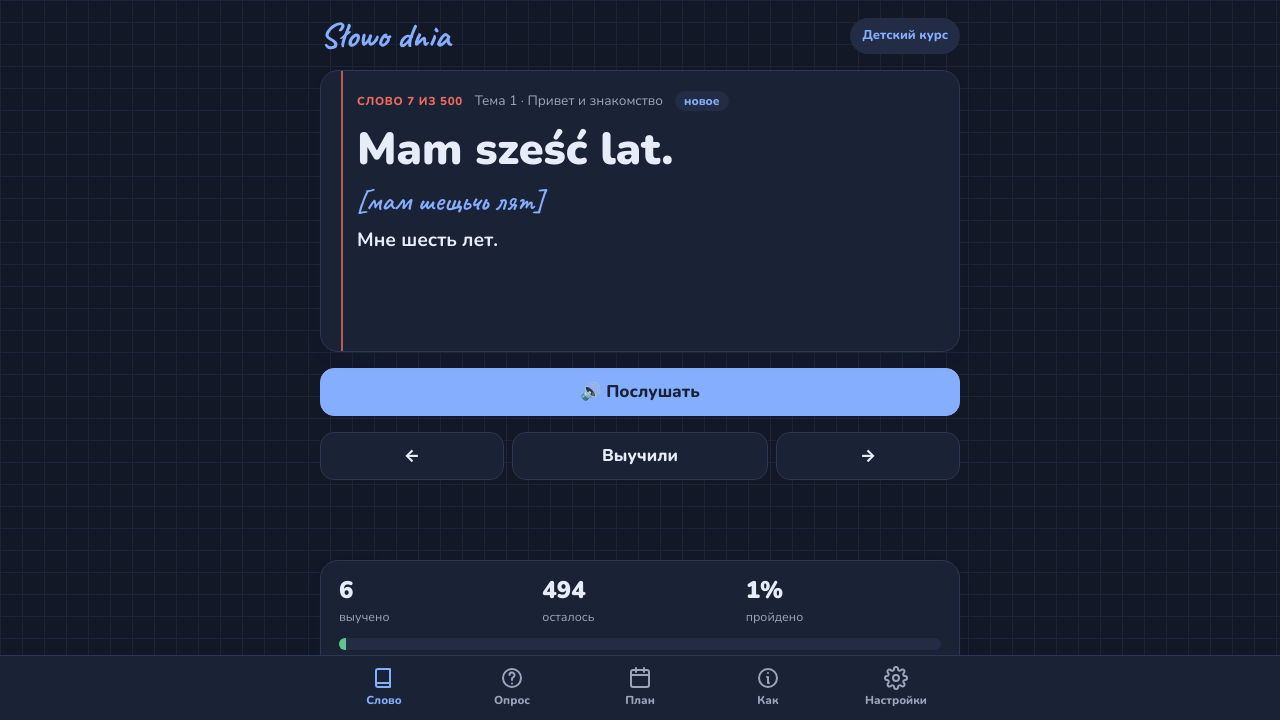
praise toast › the last word of a theme → "Тема «…» выучена! Brawo!"
The width and height of the screenshot is (1280, 720).
Click the button "Выучили" at [640, 456], box [512,432,768,480]
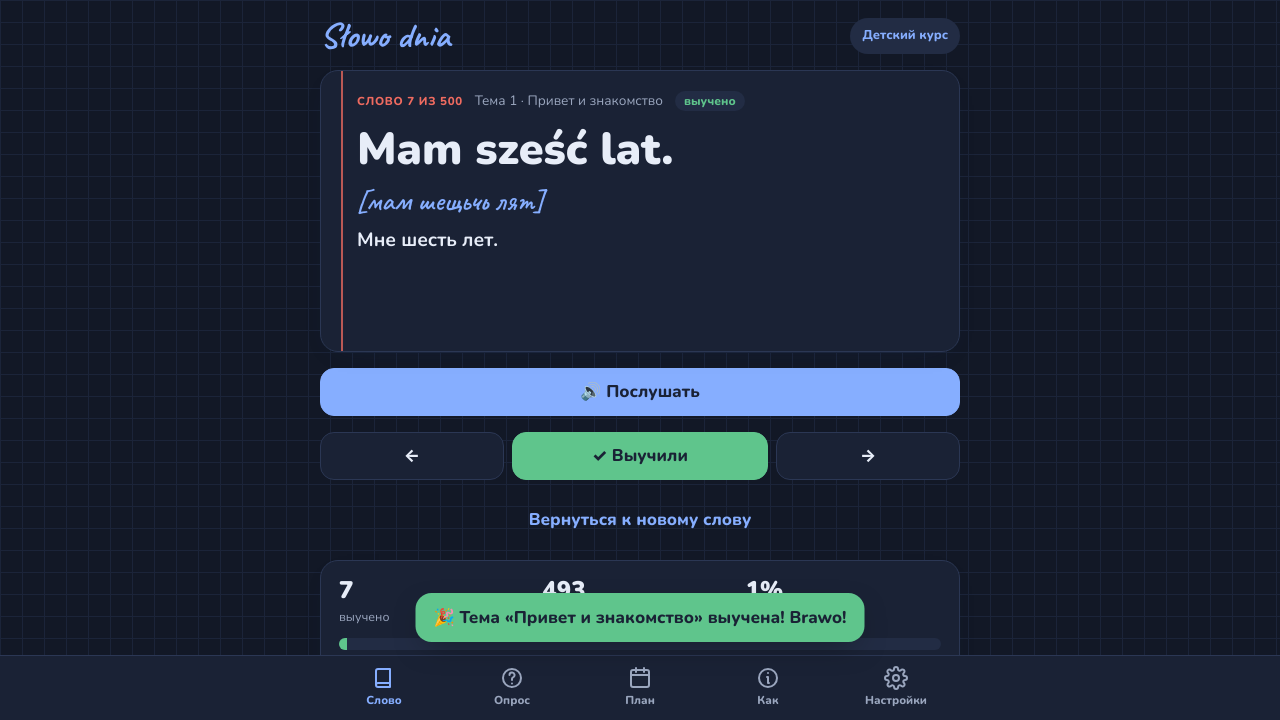
Expected: the message reads "🎉 Тема «Привет и знакомство» выучена! Brawo!", [434,606,846,628]
